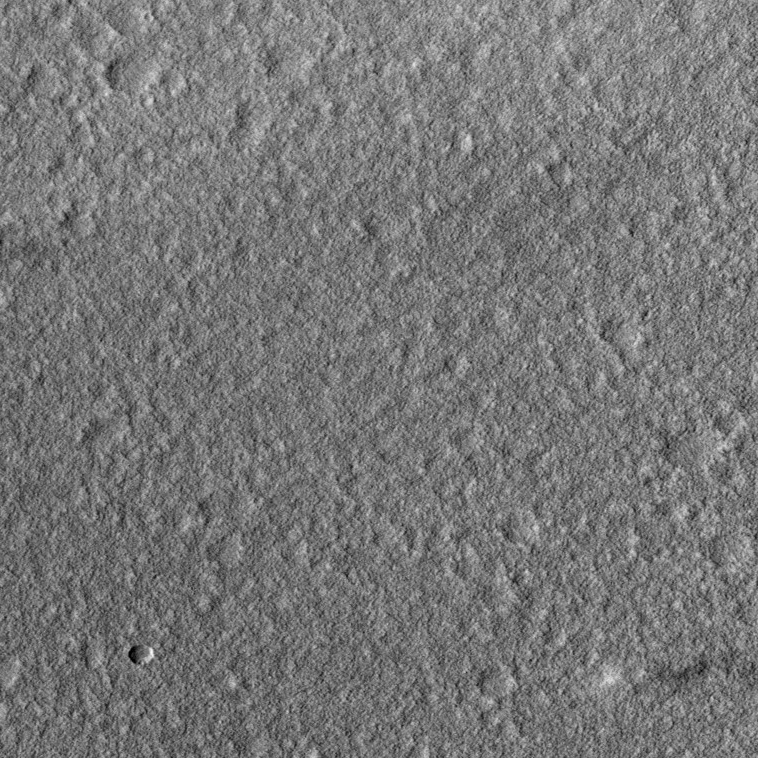dust_devil: (598, 654, 714, 693)
